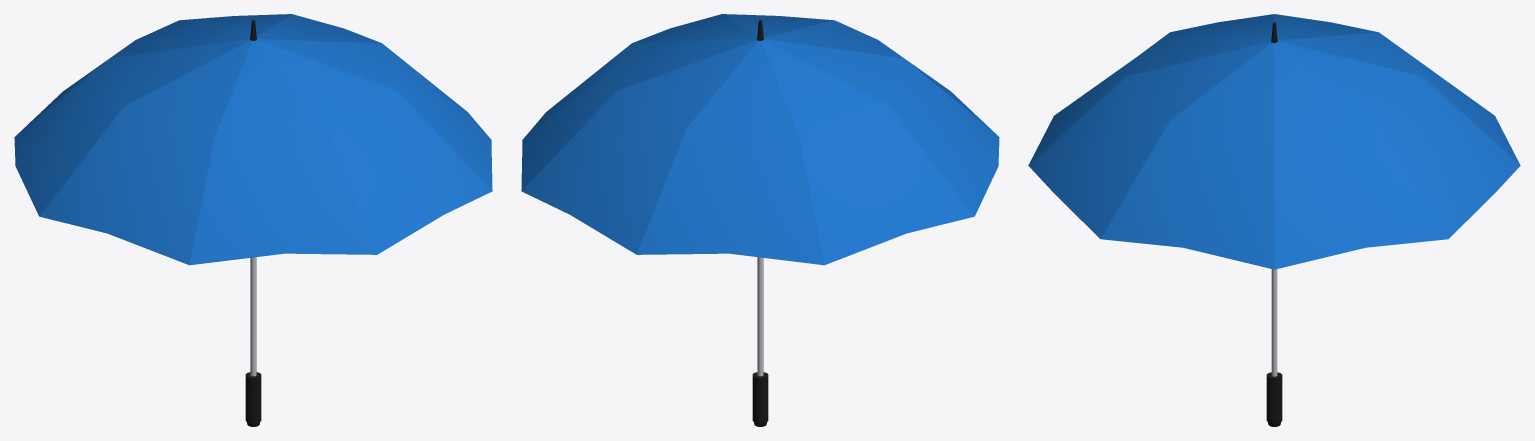
The model's file is paraguas.glb.
The picture shows the model from 3 angles, left to right: view 1: azimuth 30°, elevation 25°; view 2: azimuth 150°, elevation 25°; view 3: azimuth 270°, elevation 25°; orthographic projection.
Visible parts, largest first — view 1: pieza_tela, paraguas_cuerpo; view 2: pieza_tela, paraguas_cuerpo; view 3: pieza_tela, paraguas_cuerpo.
Part boxes in pixels (left/top/right/bottom): pieza_tela: left=14, top=14, right=492, bottom=265; paraguas_cuerpo: left=245, top=20, right=261, bottom=426; pieza_tela: left=521, top=14, right=999, bottom=265; paraguas_cuerpo: left=639, top=20, right=768, bottom=426; pieza_tela: left=1028, top=14, right=1520, bottom=269; paraguas_cuerpo: left=1266, top=22, right=1282, bottom=426.
Size of the model in its own units: 1 by 0.9 by 1.
